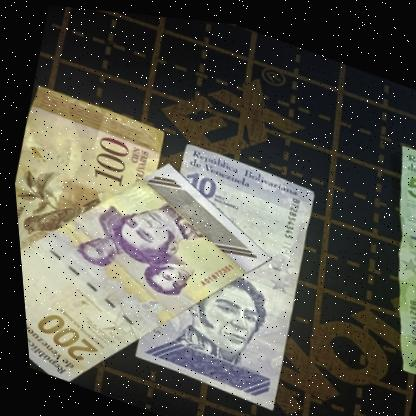fifty-front-vef: (338, 127, 416, 370)
ten-front-vef: (112, 128, 328, 410)
two_hundred-front-vef: (7, 109, 293, 416)
